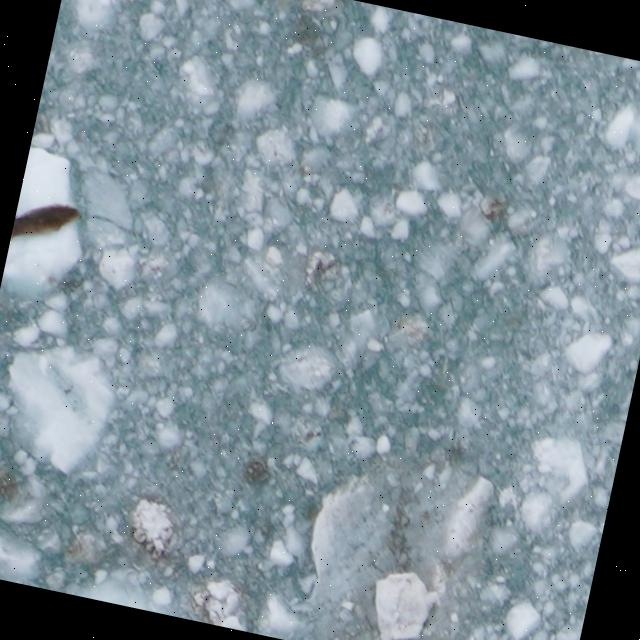seal: (9, 192, 88, 262)
